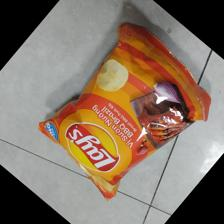Lays: (34, 23, 211, 201)
